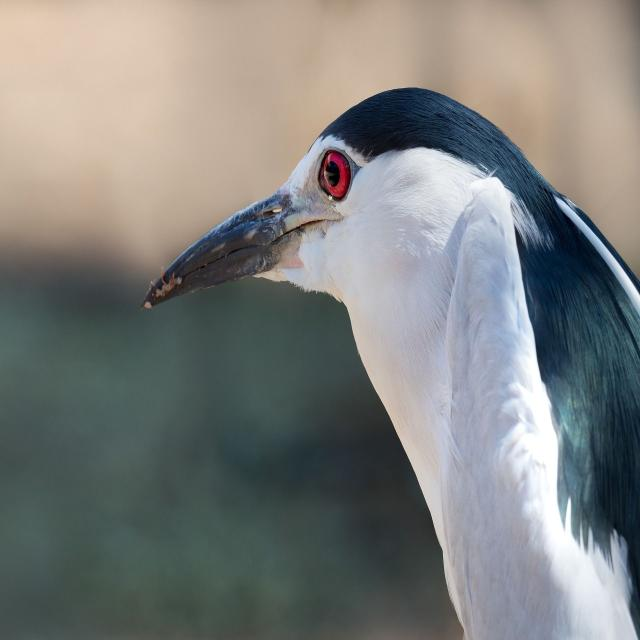bird: (143, 80, 640, 640)
